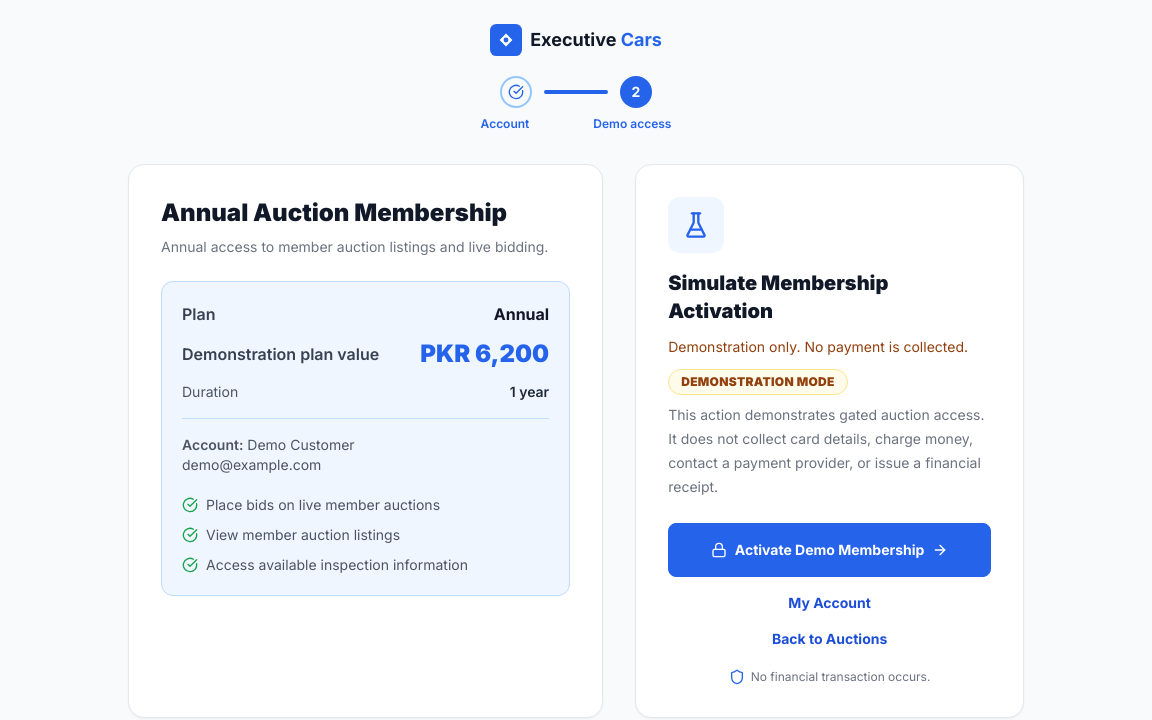
shows an activation failure when a status check confirms the account is still inactive
This screenshot has width=1152, height=720.
Click the button "Activate Demo Membership" at coordinates (830, 550), box [668,523,991,577]
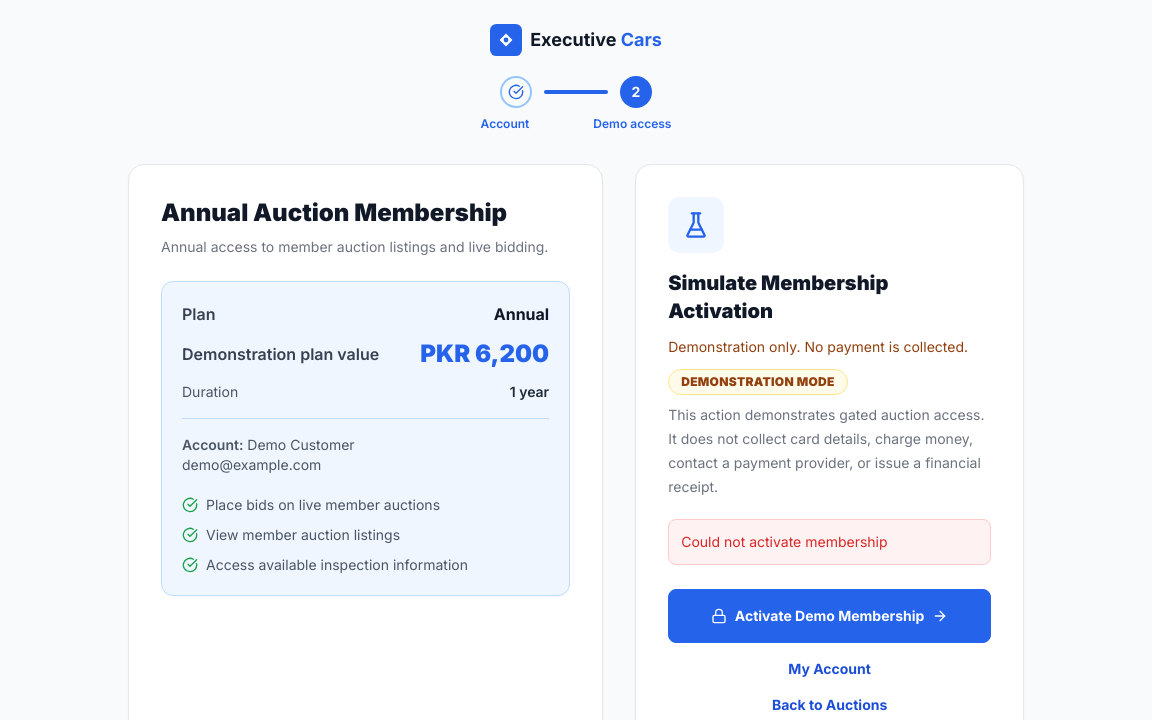
Expected: the button "Activate Demo Membership" is enabled, [668,589,991,643]
Expected: the message reads "Could not activate membership", [681,533,888,550]
